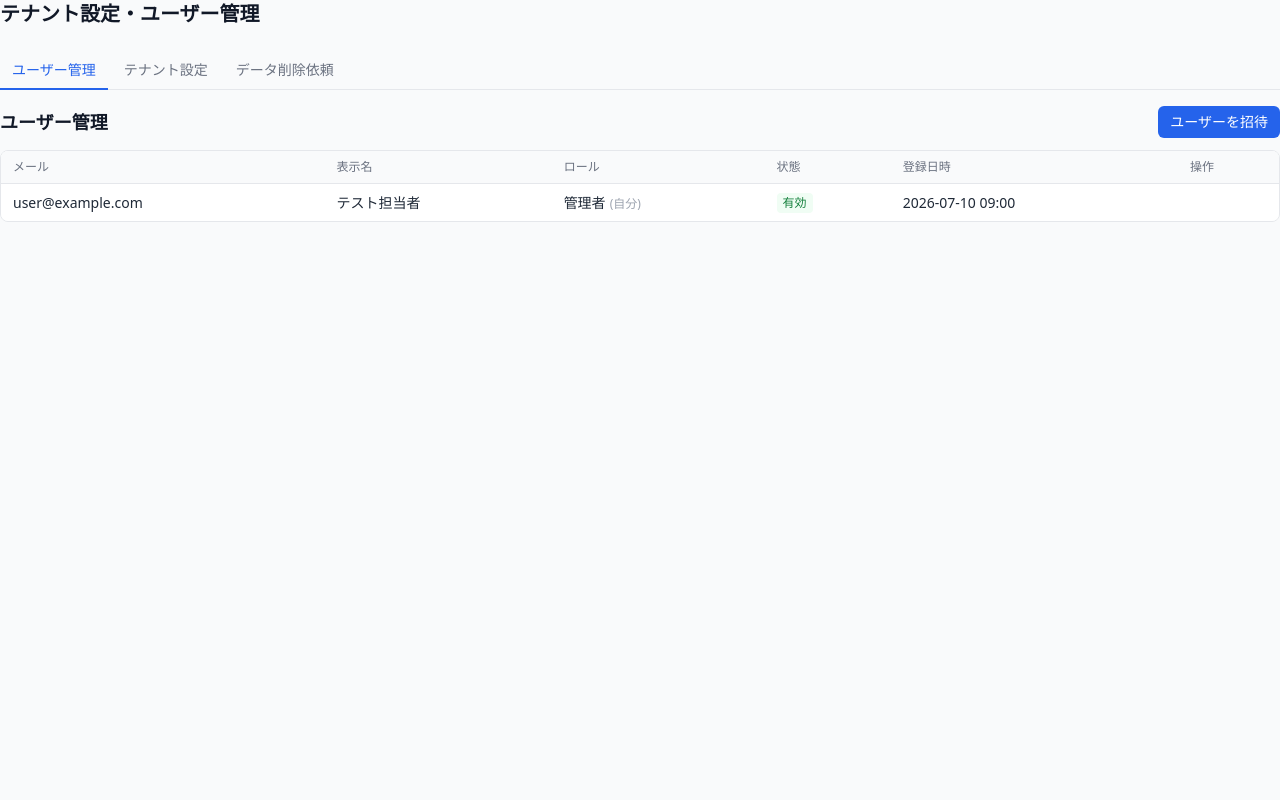
SettingsPage（S8） › データ削除依頼が確認モーダル経由で POST /deletion-requests を正しい body で呼ぶ
Click the tab "データ削除依頼" at (285, 71), box [224,52,346,90]
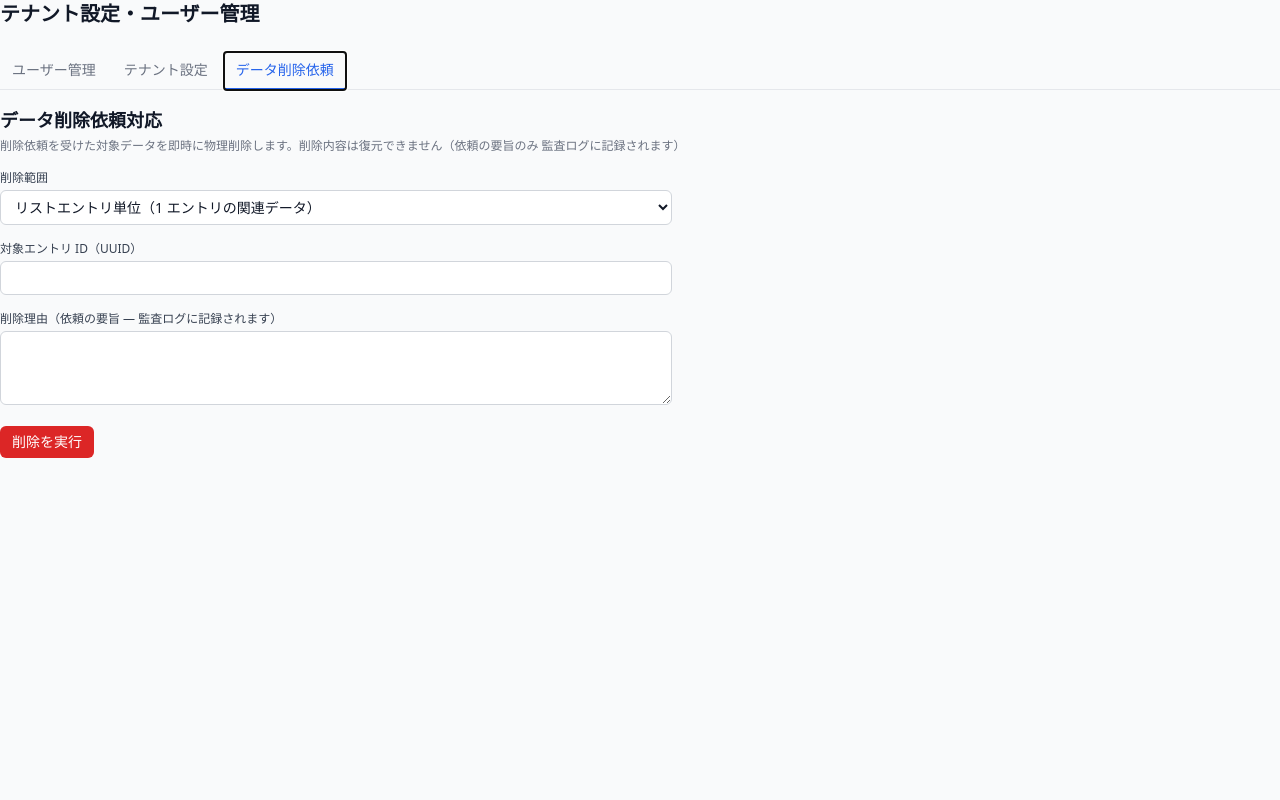
Type "88888888-8888-4888-8888-888888888888" into the field labelled "対象エントリ ID（UUID）" at (336, 278), box [0,261,672,295]
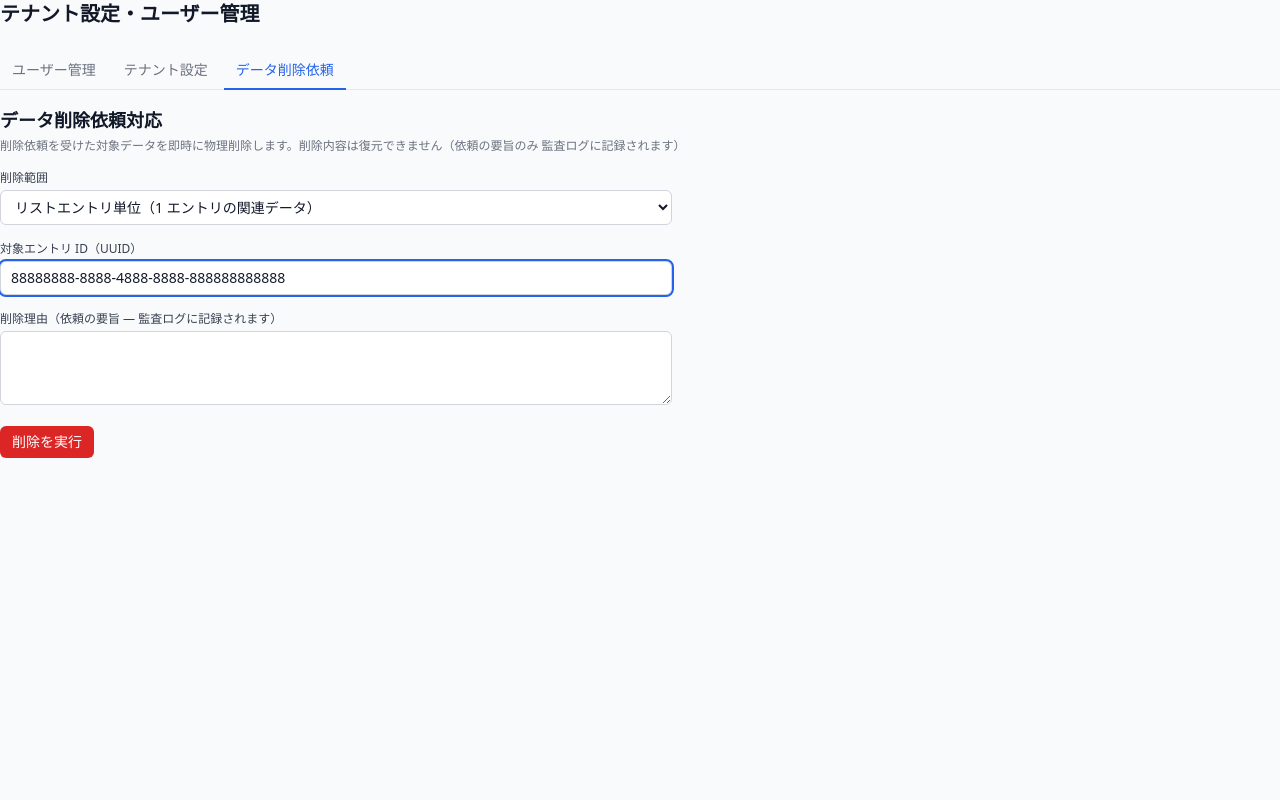
Type "本人からの削除依頼" into the text box labelled "削除理由（依頼の要旨 — 監査ログに記録されます）" at (336, 368), box [0,331,672,405]
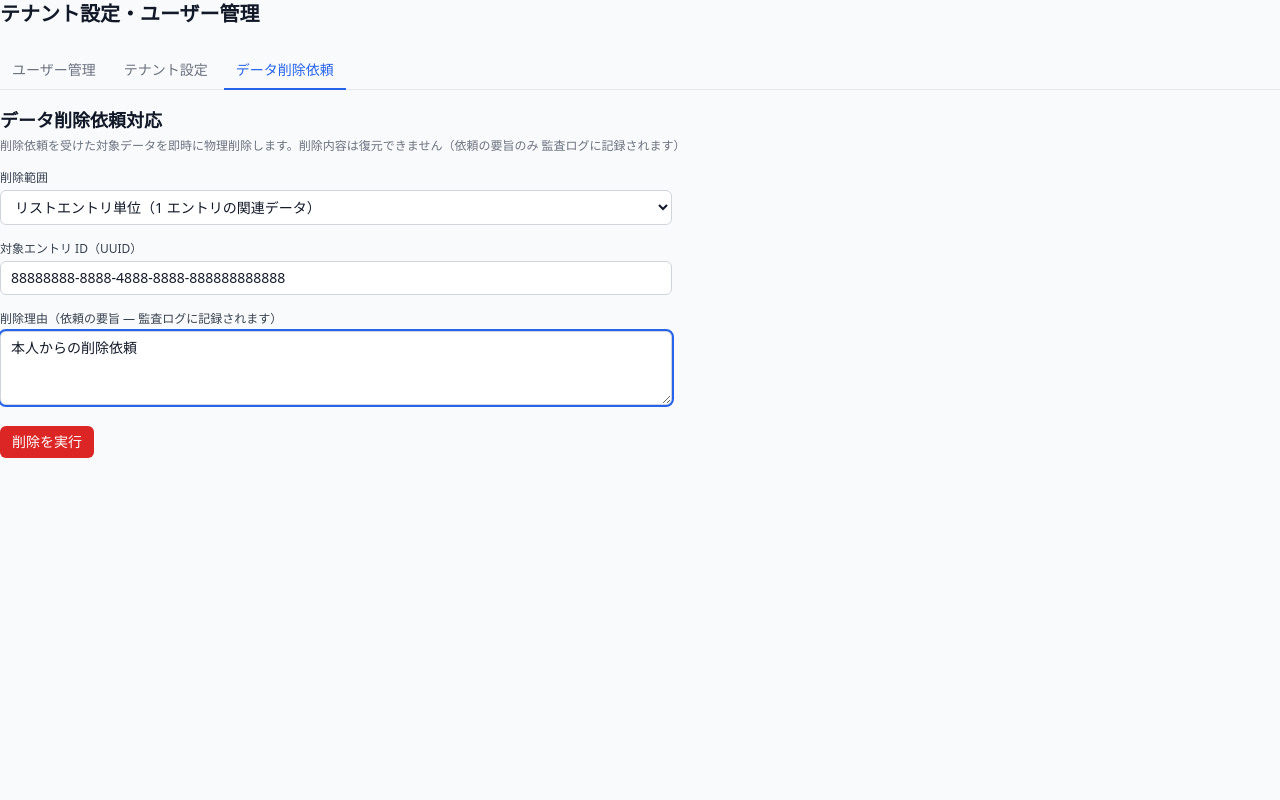
Click the button "削除を実行" at (47, 442), box [0,426,94,458]
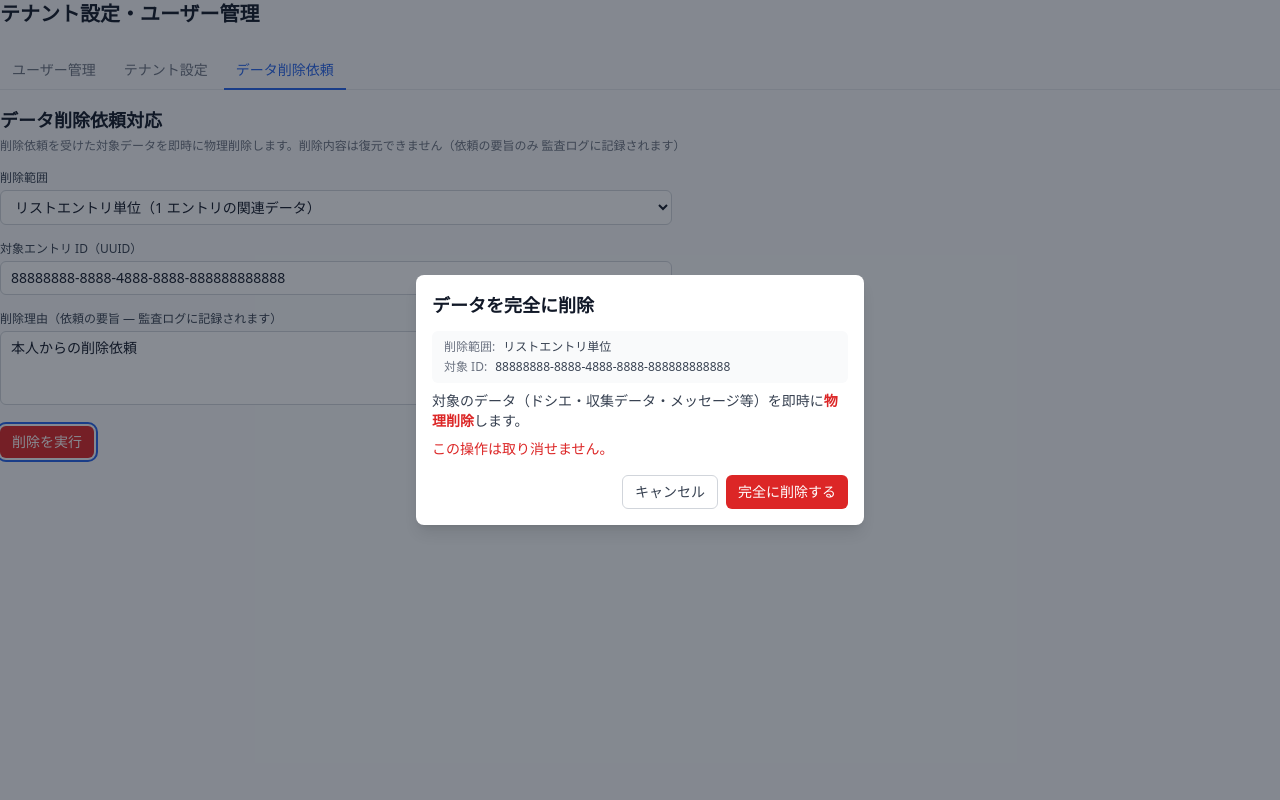
Check: the text "この操作は取り消せません。" is shown, box [432,439,614,458]
Check: the text "88888888-8888-4888-8888-888888888888" is shown, box [495,359,730,375]
Click the button "完全に削除する" at (787, 492), box [726,475,848,509]
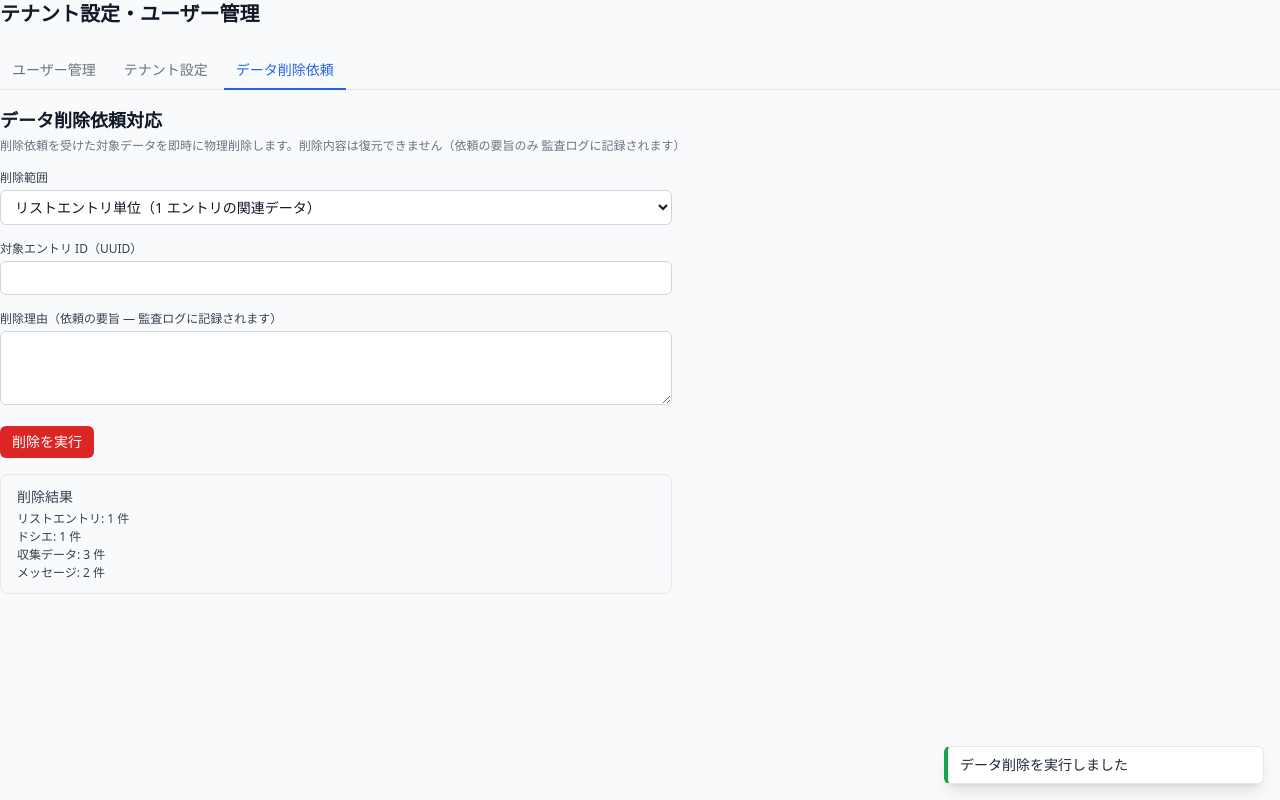
Check: the text "削除結果" is shown, box [17,487,73,506]
